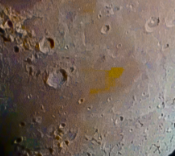crater: (41, 65, 70, 94), (36, 34, 64, 60), (141, 14, 164, 40), (93, 21, 114, 40), (114, 40, 125, 51), (76, 95, 84, 106)
